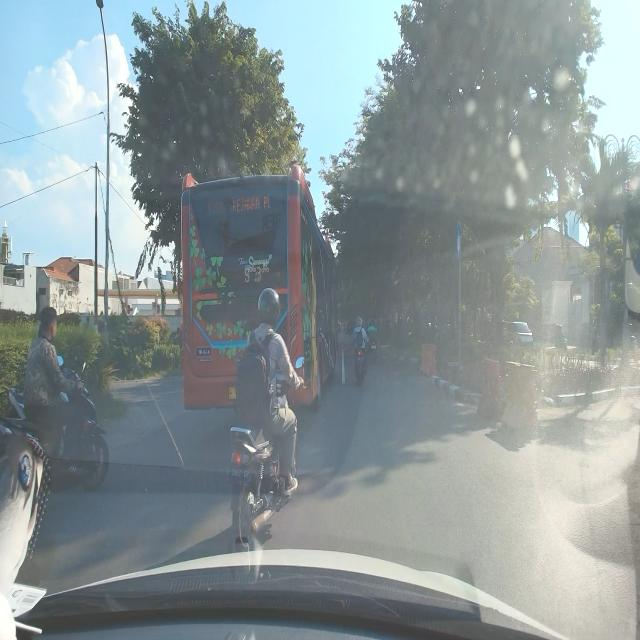bus: (181, 164, 336, 408)
